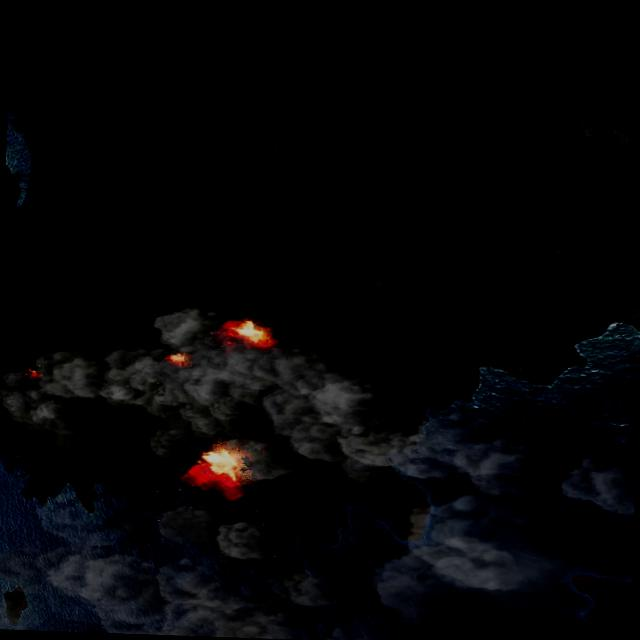fire: (183, 441, 248, 493), (226, 318, 276, 348), (164, 350, 190, 364), (28, 368, 44, 378)
smoke: (0, 299, 640, 640), (0, 306, 455, 493), (559, 455, 635, 519)
